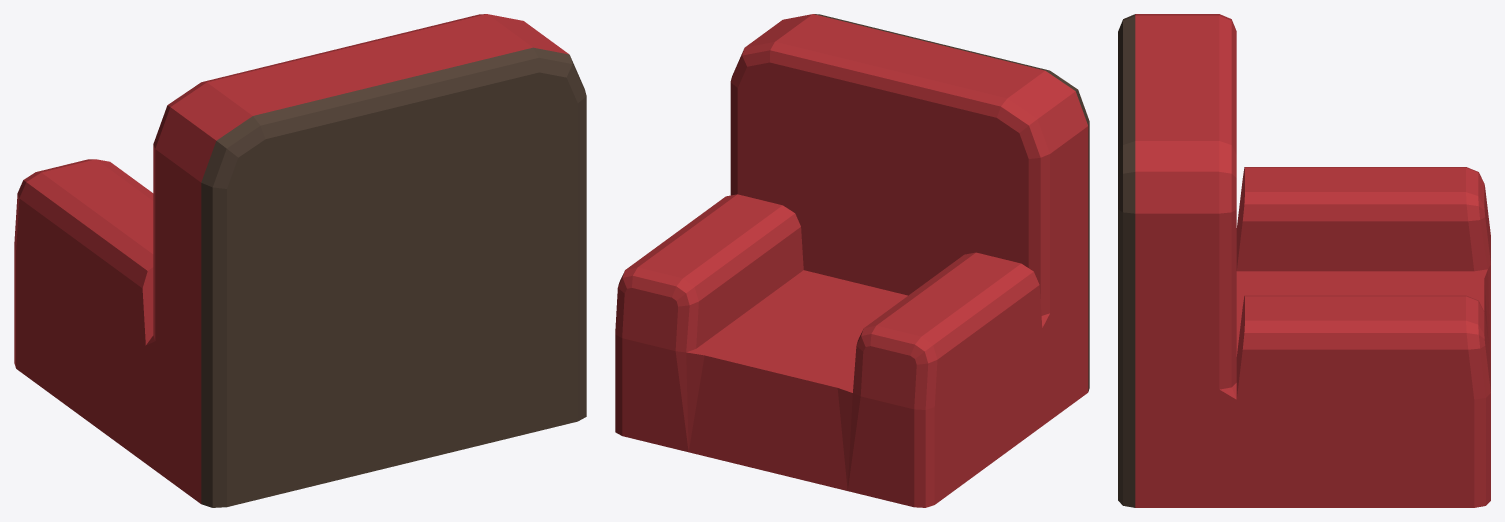
File: Sofa_Lv2.fbx
3 views of the same model, side by side, from view 1: azimuth 30°, elevation 25°; view 2: azimuth 150°, elevation 25°; view 3: azimuth 270°, elevation 25° (orthographic). The views are drawn at different scales.
Parts seen in each view (by area): view 1: Sofa_Lv2; view 2: Sofa_Lv2; view 3: Sofa_Lv2.
Boxes of the visible parts, left/top/right/bottom form: Sofa_Lv2: left=14, top=14, right=586, bottom=507; Sofa_Lv2: left=615, top=14, right=1089, bottom=507; Sofa_Lv2: left=1118, top=14, right=1490, bottom=507.
Bounding box in the file's own units: 3.41 × 3.19 × 3.13.
